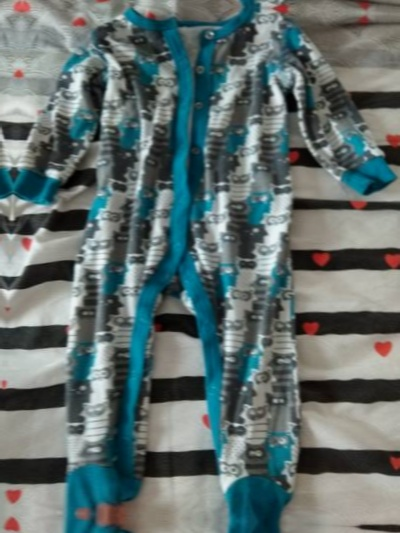Body: (0, 2, 399, 520), (0, 0, 20, 502), (0, 518, 374, 533), (24, 0, 400, 8)
